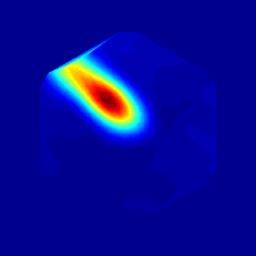ship: (114, 101, 148, 131)
wave: (71, 65, 131, 121)
